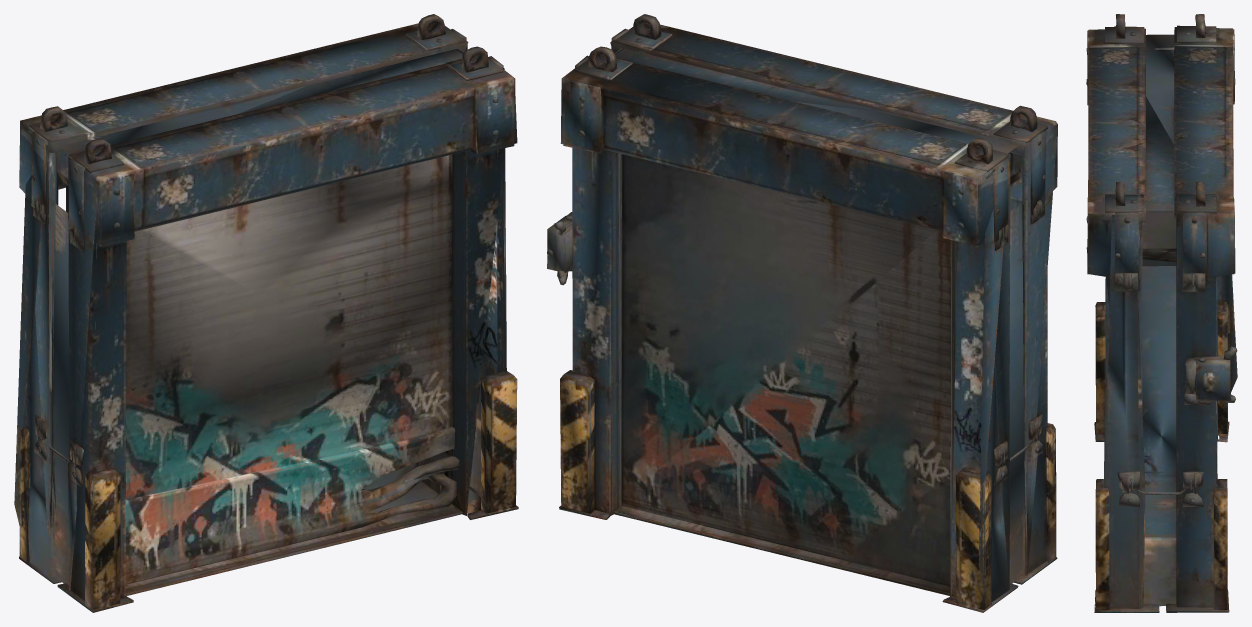
Rendered from shutter.glb.
The picture shows the model from 3 angles, left to right: view 1: azimuth 30°, elevation 25°; view 2: azimuth 150°, elevation 25°; view 3: azimuth 270°, elevation 25°; orthographic projection. The views are drawn at different scales.
Parts seen in each view (by area): view 1: shutter; view 2: shutter; view 3: shutter.
Part boxes in pixels (x1=…): shutter: x1=14, y1=14, x2=518, y2=612; shutter: x1=547, y1=14, x2=1057, y2=612; shutter: x1=1086, y1=14, x2=1237, y2=612.
Size of the model in its own units: 1 by 1 by 0.3298.
Materials: 1 (1 with a texture image).
